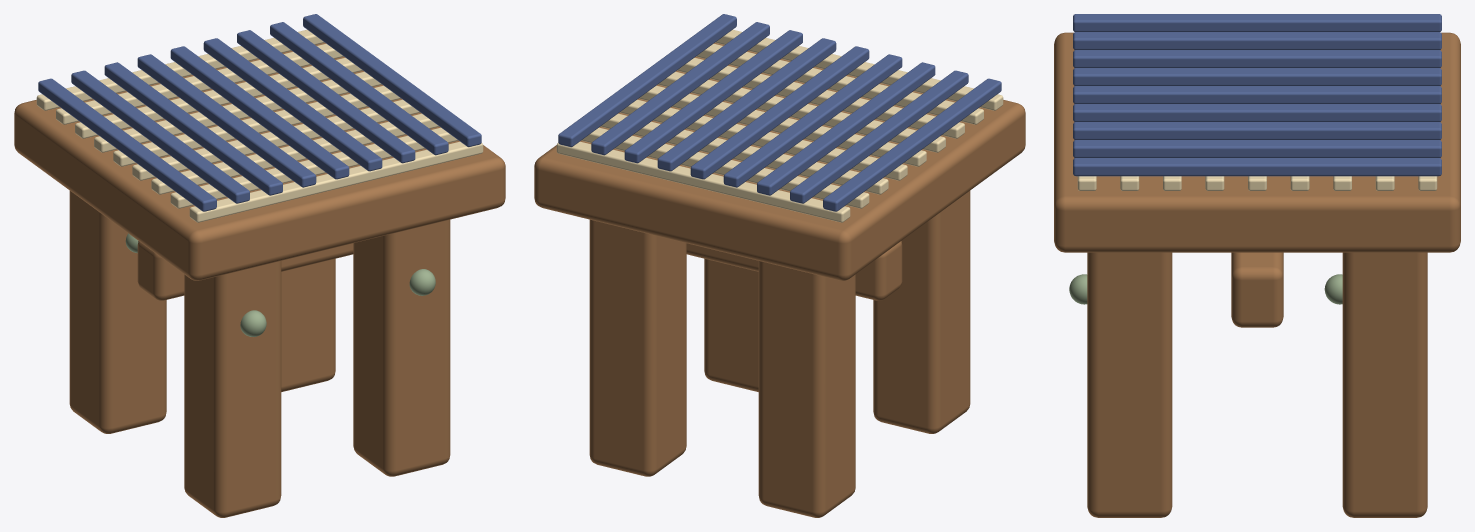
File: desert-caravanserai-and-bazaar-woven-stool-9e1e1f13__30483.glb
3 views of the same model, side by side, from view 1: azimuth 30°, elevation 25°; view 2: azimuth 150°, elevation 25°; view 3: azimuth 270°, elevation 25° (orthographic). The views are drawn at different scales.
Parts seen in each view (by area): view 1: woven-stool; view 2: woven-stool; view 3: woven-stool.
Boxes of the visible parts, box(x1,y1,x2,y2) form: woven-stool: box(14, 14, 505, 517); woven-stool: box(534, 14, 1025, 517); woven-stool: box(1054, 14, 1460, 517).
Bounding box in the file's own units: 0.43 × 0.43 × 0.43.
